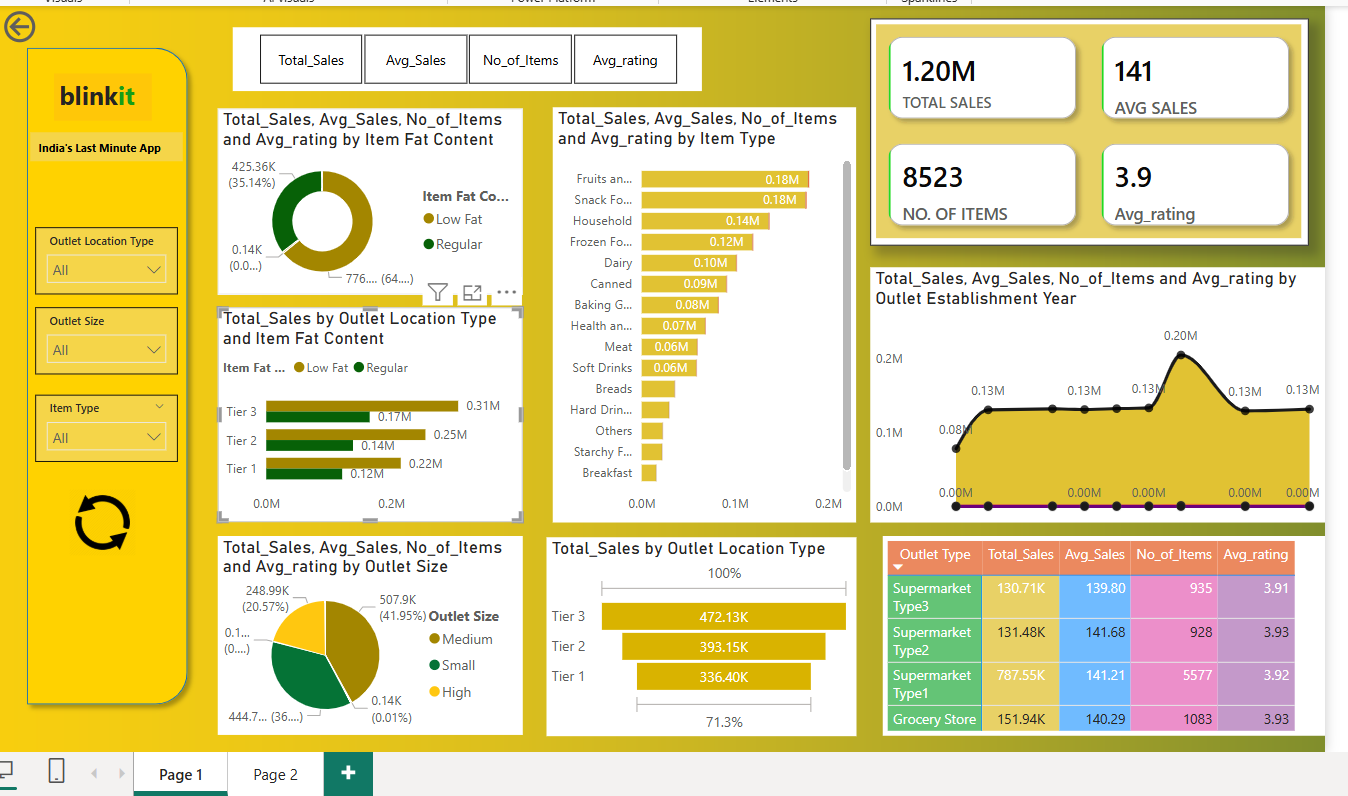

This screenshot's page, from the dashboard's own definition file:
{"tool":"powerbi","page":{"name":"Page 1","canvas":[1280,720],"ordinal":0},"visuals":[{"type":"shape","box":[17.8,31.8,172.9,651.8],"z":0},{"type":"textbox","box":[53,65.3,94.7,45.3],"z":1000},{"type":"actionButton","box":[0,0,100,40],"z":2000},{"type":"cardVisual","fields":{"Data":["BlinkIT Grocery Data.Total_Sales","BlinkIT Grocery Data.No_of_Items","BlinkIT Grocery Data.Avg_Sales","BlinkIT Grocery Data.Avg_rating"]},"box":[840.9,12.1,423.5,219.6],"z":3000},{"type":"barChart","fields":{"Y":["BlinkIT Grocery Data.Total_Sales","BlinkIT Grocery Data.Avg_Sales","BlinkIT Grocery Data.No_of_Items","BlinkIT Grocery Data.Avg_rating"],"Category":["BlinkIT Grocery Data.Item Type"]},"box":[534.5,97.7,293.2,400.5],"z":4000},{"type":"slicer","fields":{"Values":["Matrix.Matrix"]},"box":[225.6,20.5,452.4,61.5],"z":5000},{"type":"donutChart","fields":{"Y":["BlinkIT Grocery Data.Total_Sales","BlinkIT Grocery Data.Avg_Sales","BlinkIT Grocery Data.No_of_Items","BlinkIT Grocery Data.Avg_rating"],"Category":["BlinkIT Grocery Data.Item Fat Content"]},"box":[211.1,98.9,294.4,179.8],"z":6000},{"type":"clusteredBarChart","fields":{"Y":["BlinkIT Grocery Data.Total_Sales"],"Category":["BlinkIT Grocery Data.Outlet Location Type"],"Series":["BlinkIT Grocery Data.Item Fat Content"]},"box":[211.1,290.8,294.4,207.5],"z":7000},{"type":"lineChart","fields":{"Y":["BlinkIT Grocery Data.Total_Sales","BlinkIT Grocery Data.Avg_Sales","BlinkIT Grocery Data.No_of_Items","BlinkIT Grocery Data.Avg_rating"],"Category":["BlinkIT Grocery Data.Outlet Establishment Year"]},"box":[840.9,252.1,439.1,246.1],"z":8000},{"type":"pieChart","fields":{"Y":["BlinkIT Grocery Data.Total_Sales","BlinkIT Grocery Data.Avg_Sales","BlinkIT Grocery Data.No_of_Items","BlinkIT Grocery Data.Avg_rating"],"Category":["BlinkIT Grocery Data.Outlet Size"]},"box":[211.1,511.5,294.4,191.8],"z":9000},{"type":"funnel","fields":{"Y":["BlinkIT Grocery Data.Total_Sales"],"Category":["BlinkIT Grocery Data.Outlet Location Type"]},"box":[528.4,512.7,299.2,191.8],"z":10000},{"type":"pivotTable","fields":{"Rows":["BlinkIT Grocery Data.Outlet Type"],"Values":["BlinkIT Grocery Data.Total_Sales","BlinkIT Grocery Data.Avg_Sales","BlinkIT Grocery Data.No_of_Items","BlinkIT Grocery Data.Avg_rating"]},"box":[853,511.5,427.1,193],"z":11000},{"type":"slicer","fields":{"Values":["BlinkIT Grocery Data.Outlet Location Type"]},"box":[35,213.5,137.5,65.1],"z":12000},{"type":"slicer","fields":{"Values":["BlinkIT Grocery Data.Outlet Size"]},"box":[35,290.8,137.5,65.1],"z":13000},{"type":"slicer","fields":{"Values":["BlinkIT Grocery Data.Item Type"]},"box":[35,375.2,137.5,65.1],"z":14000},{"type":"image","box":[62.7,459.7,74.8,77.2],"z":15000},{"type":"textbox","box":[30.2,121.9,147.2,27.7],"z":16000}]}

Visuals, with their boxes in screenshot pixels (x1, y1, x2, y2):
shape: 11, 37, 191, 713
textbox: 48, 71, 146, 118
actionButton: 0, 4, 97, 45
cardVisual - BlinkIT Grocery Data.Total_Sales x BlinkIT Grocery Data.No_of_Items: 866, 16, 1306, 244
barChart - BlinkIT Grocery Data.Total_Sales x BlinkIT Grocery Data.Avg_Sales: 548, 105, 853, 521
slicer - Matrix.Matrix: 227, 25, 697, 89
donutChart - BlinkIT Grocery Data.Total_Sales x BlinkIT Grocery Data.Avg_Sales: 212, 106, 518, 293
clusteredBarChart - BlinkIT Grocery Data.Total_Sales x BlinkIT Grocery Data.Outlet Location Type: 212, 306, 518, 521
lineChart - BlinkIT Grocery Data.Total_Sales x BlinkIT Grocery Data.Avg_Sales: 866, 265, 1322, 521
pieChart - BlinkIT Grocery Data.Total_Sales x BlinkIT Grocery Data.Avg_Sales: 212, 535, 518, 734
funnel - BlinkIT Grocery Data.Total_Sales x BlinkIT Grocery Data.Outlet Location Type: 542, 536, 853, 735
pivotTable - BlinkIT Grocery Data.Outlet Type x BlinkIT Grocery Data.Total_Sales: 879, 535, 1322, 735
slicer - BlinkIT Grocery Data.Outlet Location Type: 29, 225, 172, 293
slicer - BlinkIT Grocery Data.Outlet Size: 29, 306, 172, 373
slicer - BlinkIT Grocery Data.Item Type: 29, 393, 172, 461
image: 58, 481, 136, 561
textbox: 24, 130, 177, 159
